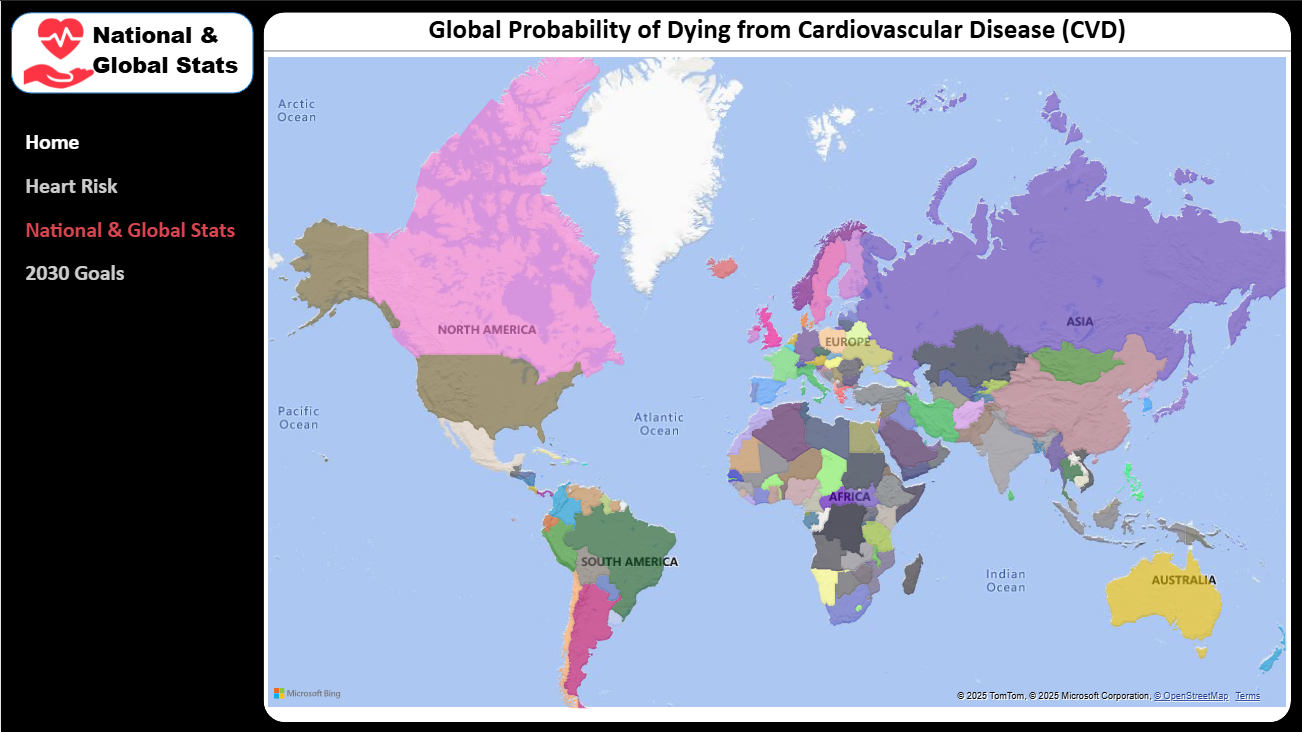

This screenshot's page, from the dashboard's own definition file:
{"tool":"powerbi","page":{"name":"National & Global Stats","canvas":[1280,720],"ordinal":2},"visuals":[{"type":"shape","box":[257.7,11,1008.6,696.9],"z":0},{"type":"shape","box":[9.8,11,238,79.8],"z":1000},{"type":"actionButton","box":[9.8,116.6,238,42.9],"z":2000},{"type":"actionButton","box":[9.8,159.5,238,42.9],"z":3000},{"type":"actionButton","box":[9.8,202.5,238,42.9],"z":4000},{"type":"actionButton","box":[9.8,245.4,238,42.9],"z":5000},{"type":"textbox","box":[84.7,13.5,168.1,77.3],"z":7000},{"type":"filledMap","title":"Global Probability of Dying from Cardiovascular Disease (CVD)","fields":{"Category":["Country Wise Life Expentency.Countries and areas"],"Series":["Country Wise Life Expentency.Probability of dying from cvd"]},"box":[257.7,11,1008.6,687.1],"z":8502},{"type":"image","box":[0,12.3,112.9,78.5],"z":8503}]}

Visuals, with their boxes on the page's 1280x720 design canvas (x1, y1, x2, y2). These are canvas units, not pixel positions in the 1302x732 screenshot, which may show the page scaled, cropped or inside an application window:
shape: {"x1": 258, "y1": 11, "x2": 1266, "y2": 708}
shape: {"x1": 10, "y1": 11, "x2": 248, "y2": 91}
actionButton: {"x1": 10, "y1": 117, "x2": 248, "y2": 160}
actionButton: {"x1": 10, "y1": 160, "x2": 248, "y2": 202}
actionButton: {"x1": 10, "y1": 202, "x2": 248, "y2": 245}
actionButton: {"x1": 10, "y1": 245, "x2": 248, "y2": 288}
textbox: {"x1": 85, "y1": 14, "x2": 253, "y2": 91}
"Global Probability of Dying from Cardiovascular Disease (CVD)" filledMap: {"x1": 258, "y1": 11, "x2": 1266, "y2": 698}
image: {"x1": 0, "y1": 12, "x2": 113, "y2": 91}
